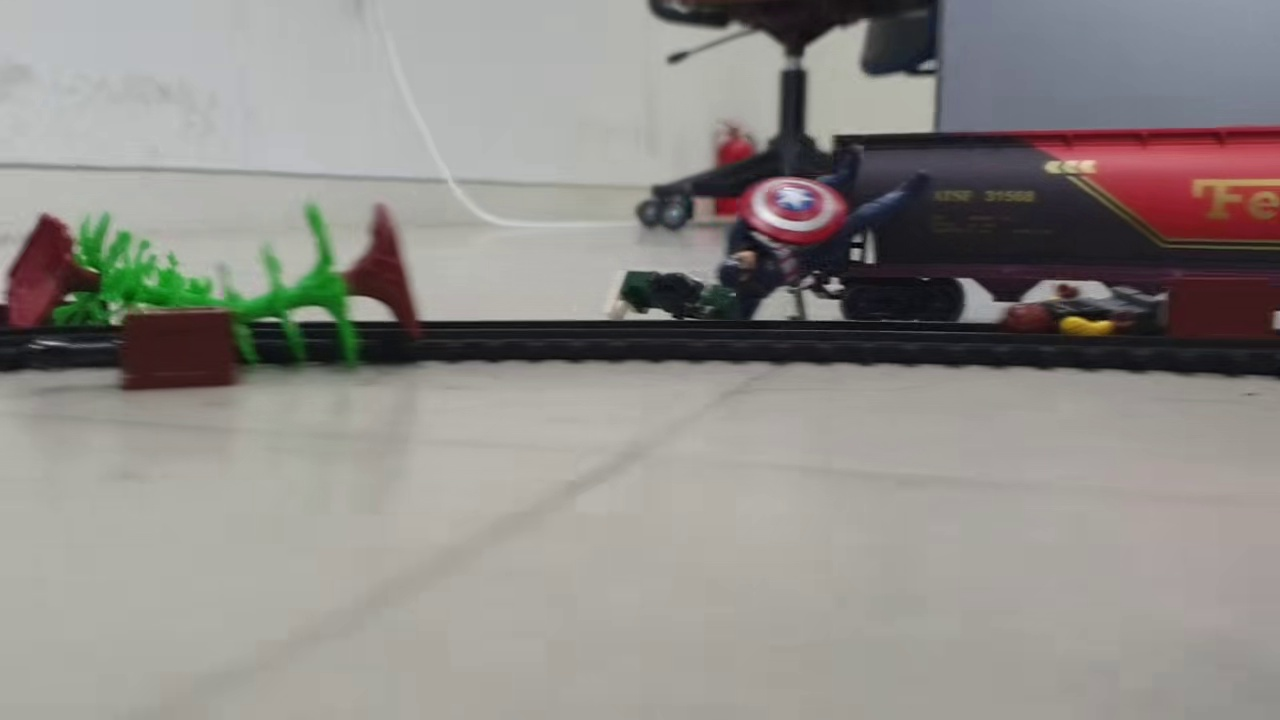box: (24, 309, 241, 393)
people: (719, 143, 933, 296), (1002, 281, 1174, 344), (605, 266, 747, 329)
tree: (163, 198, 420, 363), (5, 206, 256, 335)
